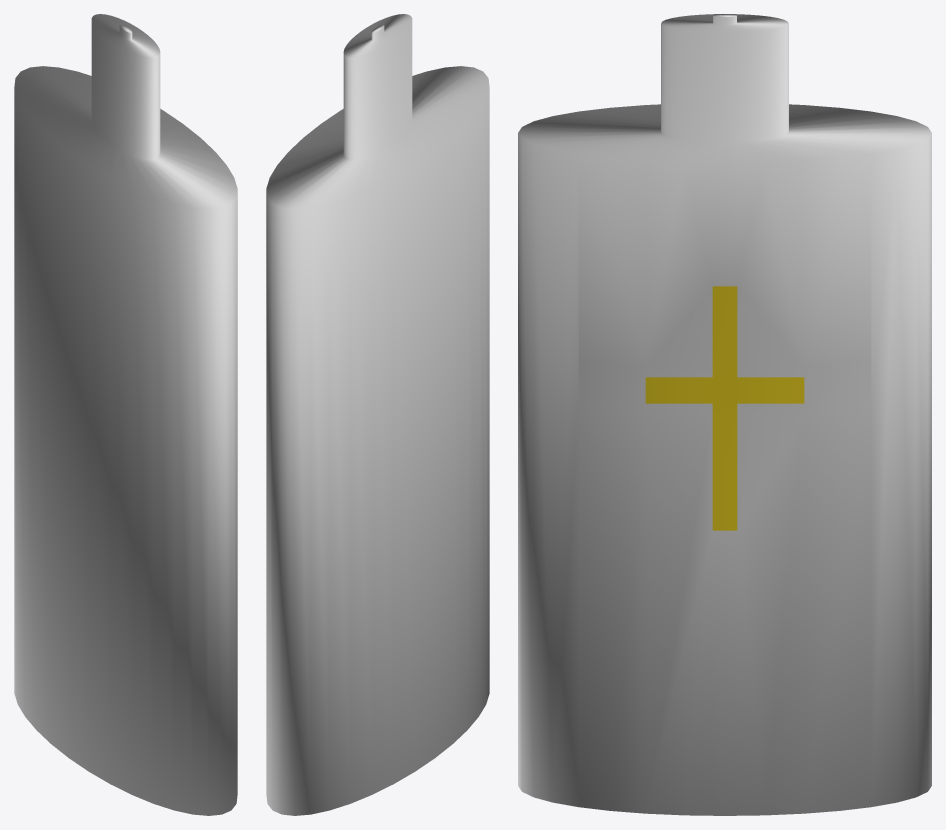
File: Bottle_HolyWater.glb
3 views of the same model, side by side, from view 1: azimuth 30°, elevation 25°; view 2: azimuth 150°, elevation 25°; view 3: azimuth 270°, elevation 25° (orthographic). The views are drawn at different scales.
Parts seen in each view (by area): view 1: Cylinder; view 2: Cylinder; view 3: Cylinder.
Part boxes in pixels (x1,y1,x2,y2): Cylinder: [14, 14, 237, 815]; Cylinder: [266, 14, 489, 815]; Cylinder: [518, 14, 931, 815].
Bounding box in the file's own units: 0.5699 × 3.41 × 1.66.
